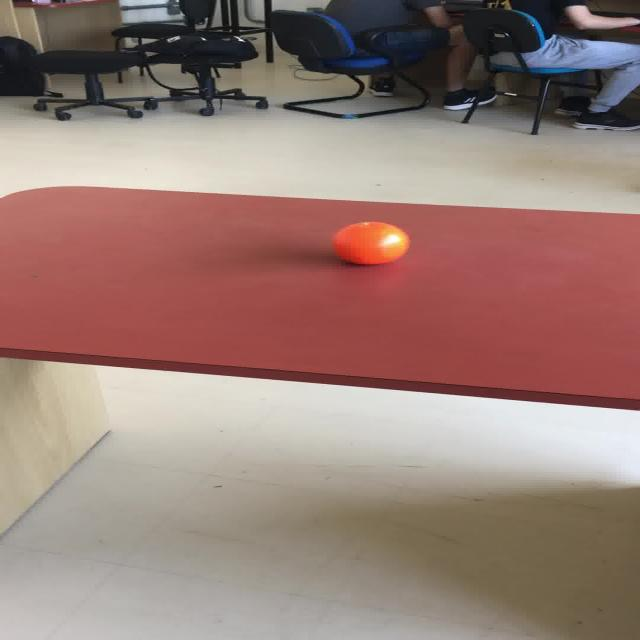orange: (330, 220, 410, 264)
